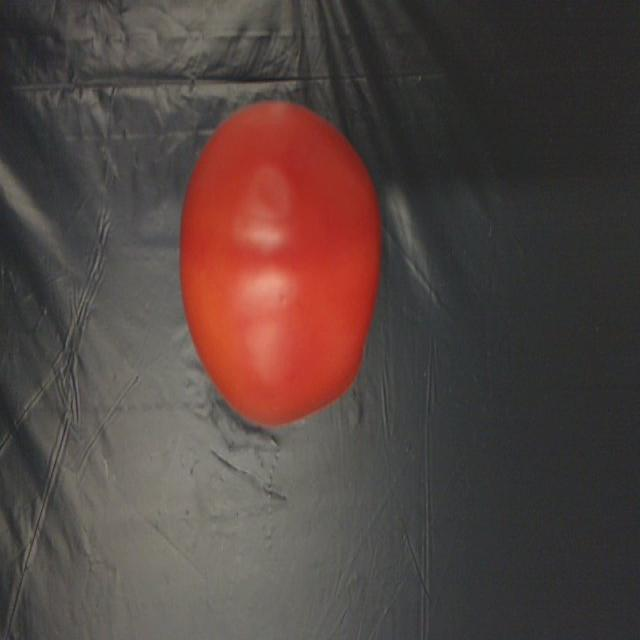kirmizi: (177, 104, 387, 450)
